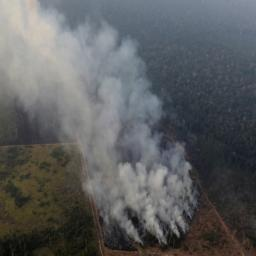Heavy smoke: (0, 0, 198, 239)
